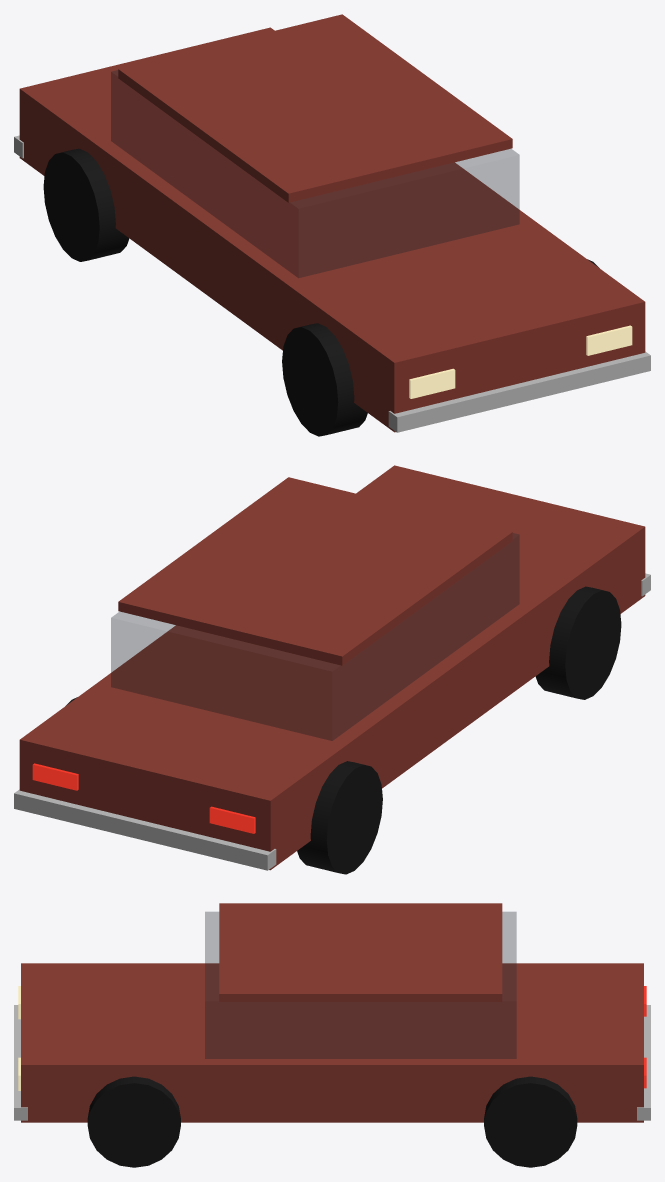
File: buick.glb
3 renders of one model, top to bottom at view 1: azimuth 30°, elevation 25°; view 2: azimuth 150°, elevation 25°; view 3: azimuth 270°, elevation 25°, orthographic. The views are drawn at different scales.
Parts seen in each view (by area): view 1: buick, windows, wheel (×2); view 2: buick, windows, wheel (×2); view 3: buick, windows, wheel (×2).
Part boxes in pixels (x1,y1,x2,y2): buick: (14, 14, 650, 432); windows: (111, 70, 519, 277); wheel (×2): (43, 148, 367, 436); buick: (14, 465, 650, 870); windows: (111, 533, 519, 740); wheel (×2): (297, 586, 621, 874); buick: (14, 903, 650, 1122); windows: (205, 912, 516, 1058); wheel (×2): (87, 1076, 577, 1167).
Size of the model in its own units: 1.92 by 1.26 by 4.5.
